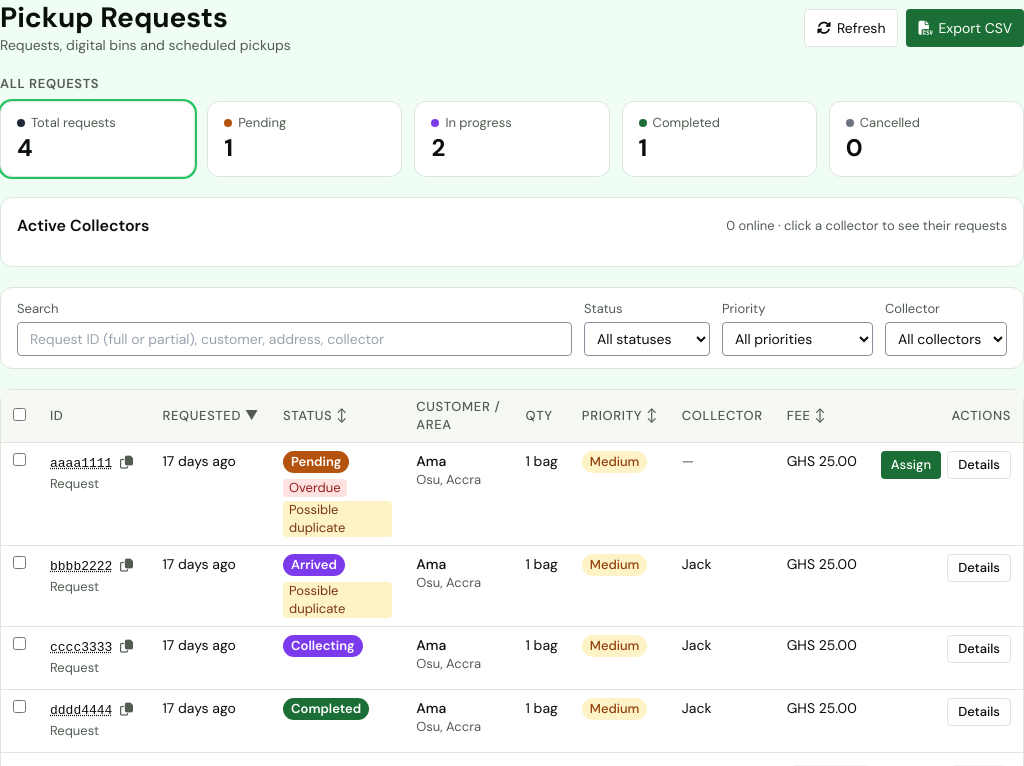
clicking a stats card filters the table through the URL
The image size is (1024, 766).
expect the number of rows with test id "request-row" is 4: met, box [1,442,1023,546]; [1,546,1023,626]; [1,626,1023,690]; [1,690,1023,752]
Click the button "In progress 2". click: {"x": 512, "y": 139}
box: [414,101,610,177]
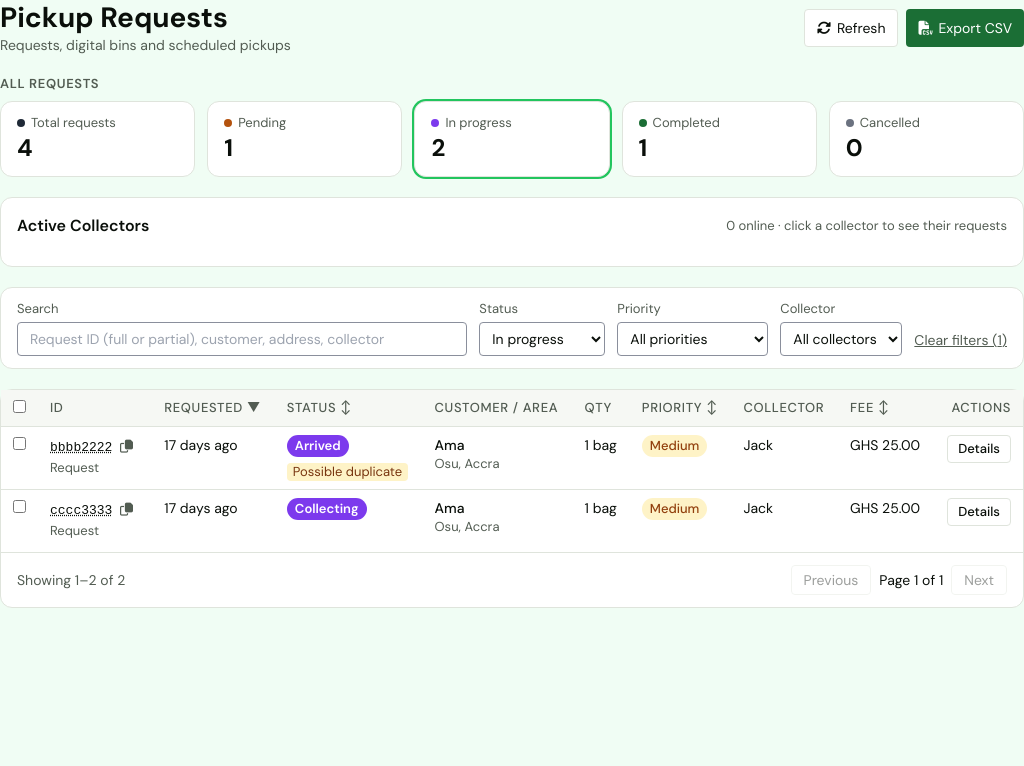
expect the number of rows with test id "request-row" is 2: met, box [1,426,1023,490]; [1,490,1023,552]
